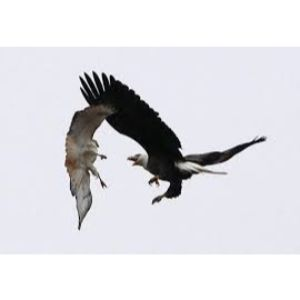eagle: (74, 66, 278, 210)
hawk: (54, 96, 126, 230)
